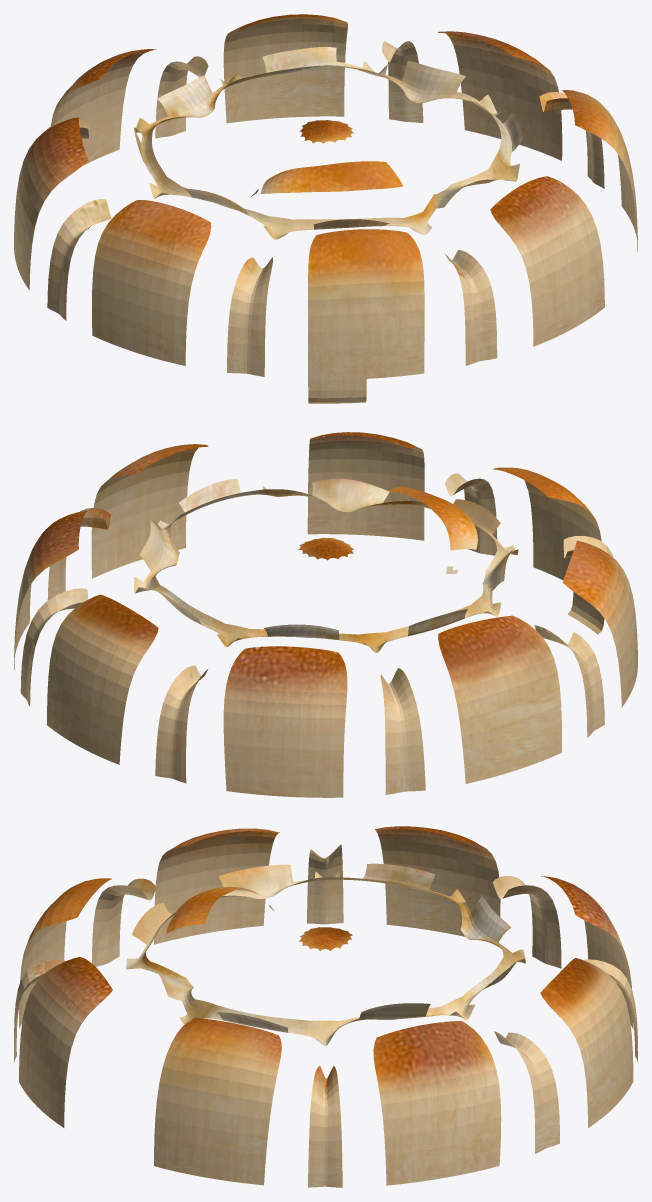
The model's file is roti_paung.gltf.
3 renders of one model, top to bottom at view 1: azimuth 30°, elevation 25°; view 2: azimuth 150°, elevation 25°; view 3: azimuth 270°, elevation 25°, orthographic.
Parts seen in each view (by area): view 1: Roti Paung; view 2: Roti Paung; view 3: Roti Paung.
Part boxes in pixels (box(x1,y1,x2,y2)): Roti Paung: box(14, 14, 637, 403); Roti Paung: box(14, 432, 637, 797); Roti Paung: box(14, 826, 637, 1187).
Size of the model in its own units: 8.63 by 2.47 by 8.6.
Materials: 1 (1 with a texture image).
